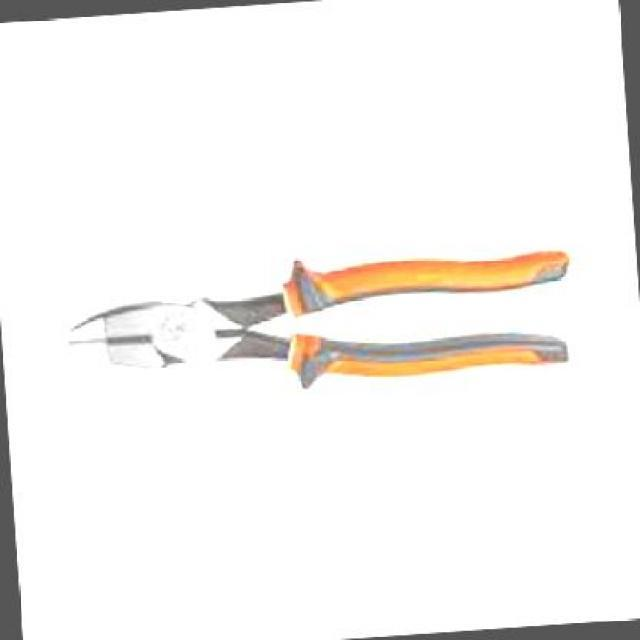pliers: (51, 186, 600, 425)
